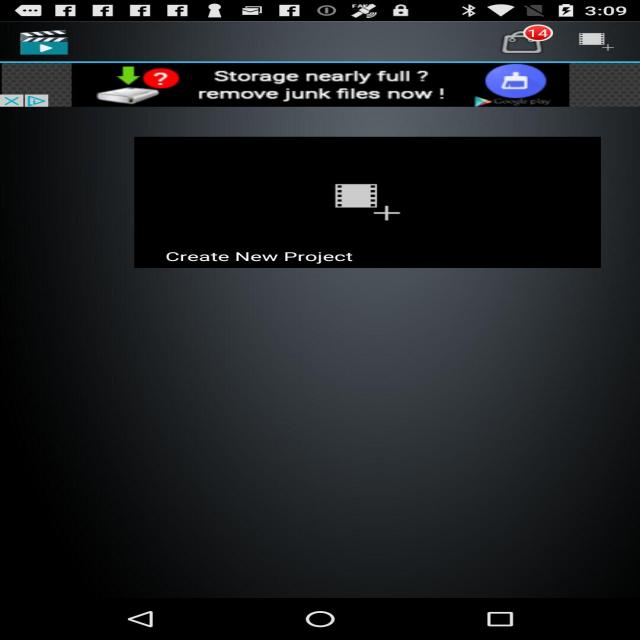icon: (20, 24, 96, 62), (563, 27, 630, 62), (476, 28, 549, 57)
image: (139, 141, 608, 274), (7, 68, 608, 109)
